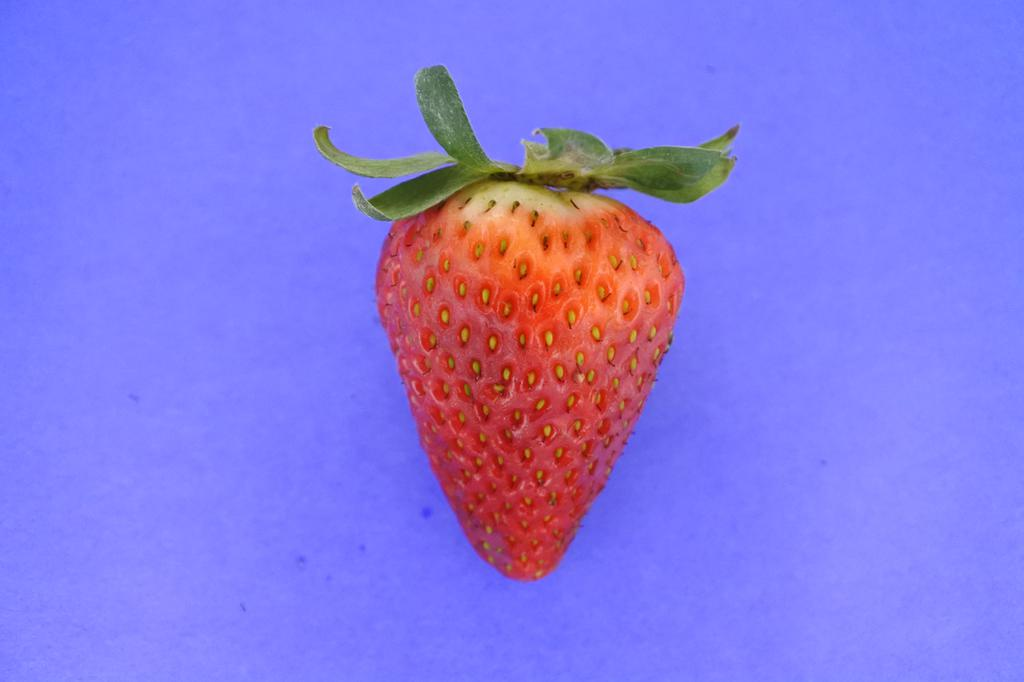red strawberry: (311, 63, 739, 586)
